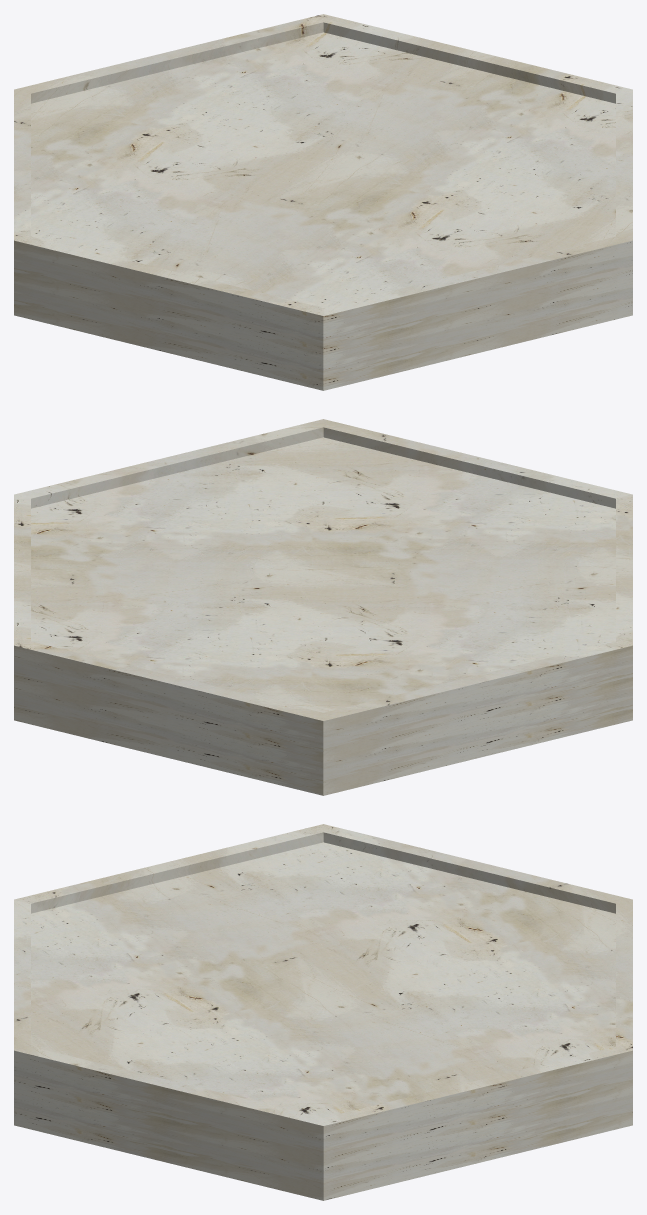
Rendered from hexagone.fbx.
The picture shows the model from 3 angles, top to bottom: view 1: azimuth 30°, elevation 25°; view 2: azimuth 150°, elevation 25°; view 3: azimuth 270°, elevation 25°; orthographic projection.
Parts seen in each view (by area): view 1: pCylinder1; view 2: pCylinder1; view 3: pCylinder1.
Part boxes in pixels (x1=…): pCylinder1: x1=14, y1=14, x2=632, y2=390; pCylinder1: x1=14, y1=419, x2=632, y2=795; pCylinder1: x1=14, y1=824, x2=632, y2=1200.
Bounding box in the file's own units: 1 × 0.1155 × 0.866.
